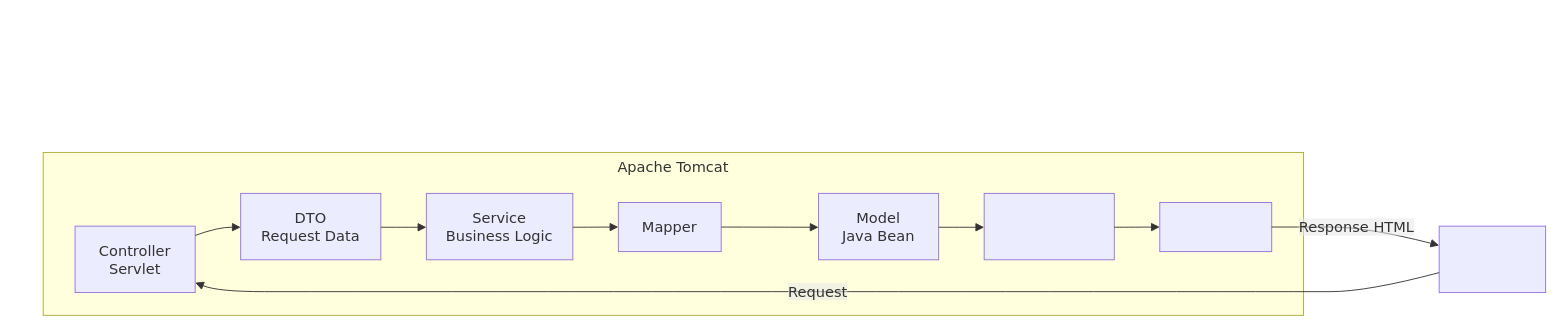
Image size: 1562x331. Some labels were removed from this diagram. Each missing label, with the centre of its shape:
"Client Browser" belongs at point (1492, 259).
"HttpSession Cookie" belongs at point (1048, 226).
"JSP View" belongs at point (1215, 227).
